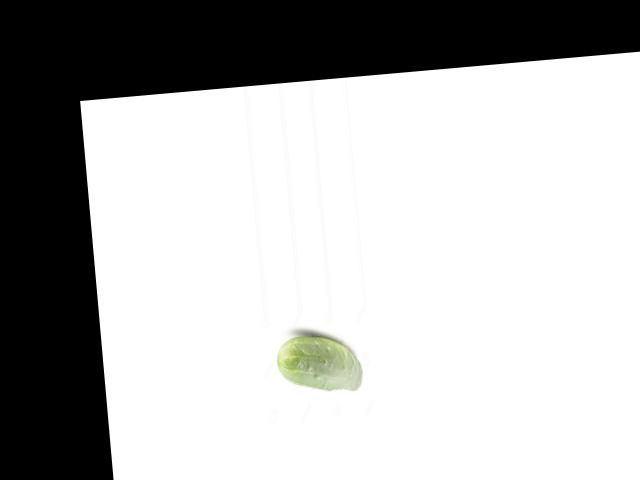cucumber: (274, 330, 364, 397)
